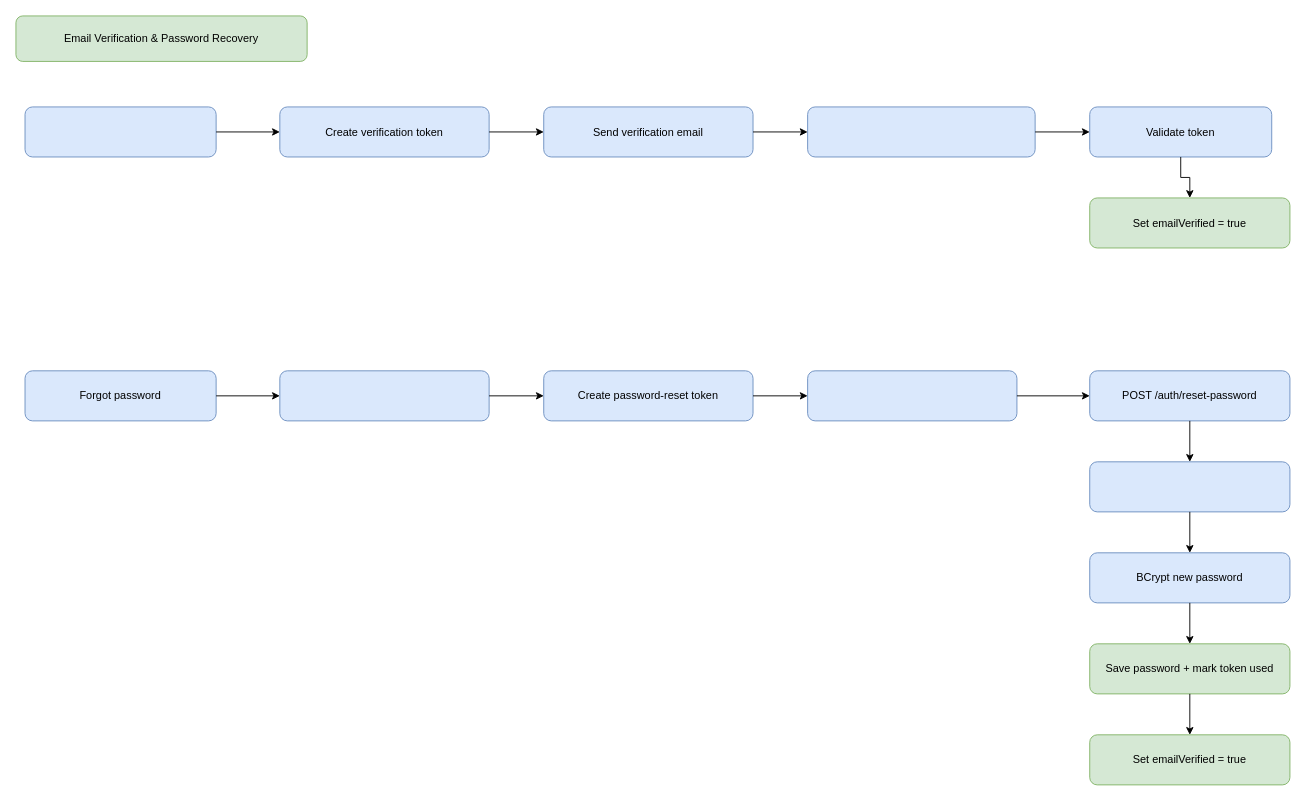
Some shapes in this 1306 by 801 pixel diagram are drawn without their labels. Each missing label, with the centre of its shape:
"Find user; if absent, return" belongs at point 384,395.
"GET /auth/verify-email?token=..." belongs at point 921,131.
"Registration" belongs at point 120,131.
"Send password-reset email" belongs at point 912,395.
"Validate reset token" belongs at point 1189,486.
